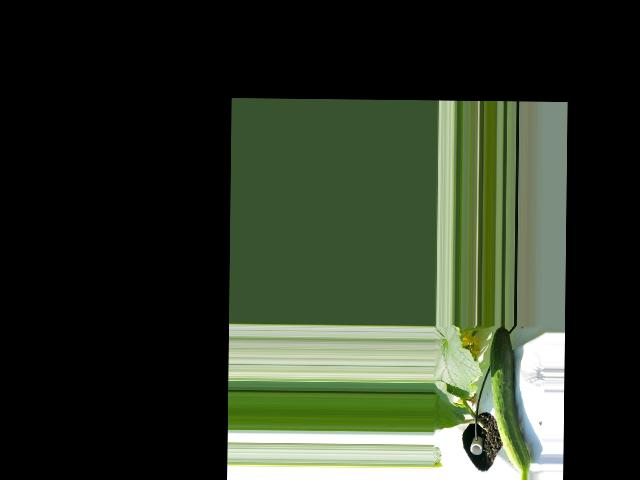cucumber: (489, 326, 532, 474)
